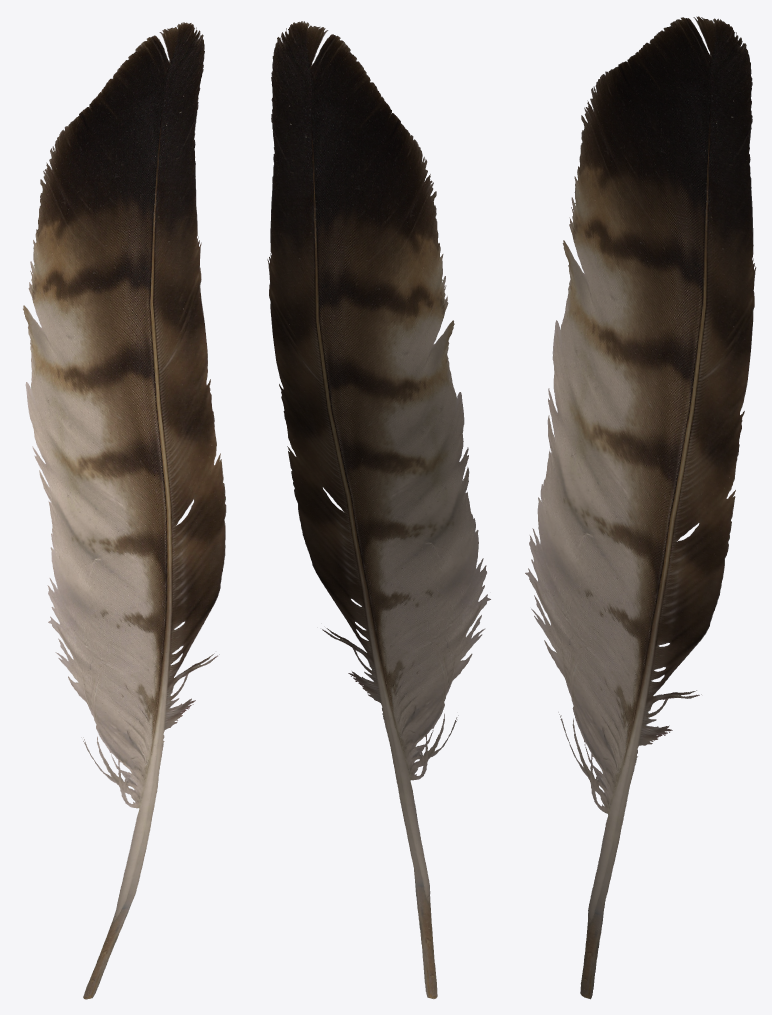
Rendered from great feather.fbx.
The picture shows the model from 3 angles, left to right: view 1: azimuth 30°, elevation 25°; view 2: azimuth 150°, elevation 25°; view 3: azimuth 330°, elevation 25°; orthographic projection. The views are drawn at different scales.
Parts seen in each view (by area): view 1: eagle feather; view 2: eagle feather; view 3: eagle feather.
Boxes of the visible parts, box(x1,y1,x2,y2) form: eagle feather: box(23, 22, 226, 999); eagle feather: box(267, 21, 490, 999); eagle feather: box(525, 16, 756, 999).
Size of the model in its own units: 21.51 by 100 by 8.1.
Materials: 1 (1 with a texture image).
